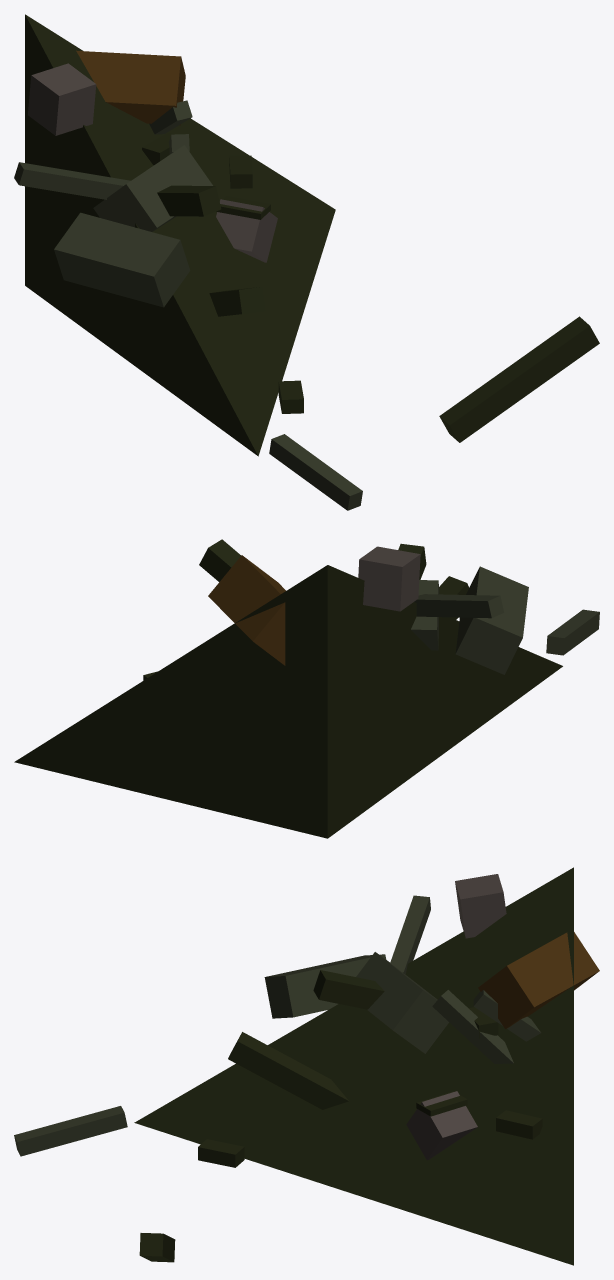
The model's file is SM_PilaZombi_RemateDer_Altura2_s0_LOD0.fbx.
3 views of the same model, one above another, from view 1: azimuth 30°, elevation 25°; view 2: azimuth 150°, elevation 25°; view 3: azimuth 270°, elevation 25° (orthographic). The views are drawn at different scales.
Visible parts, largest first — view 1: SM_pila_zombis_v1_LOD0; view 2: SM_pila_zombis_v1_LOD0; view 3: SM_pila_zombis_v1_LOD0.
Boxes of the visible parts, box(x1,y1,x2,y2) form: SM_pila_zombis_v1_LOD0: box(14, 14, 599, 510); SM_pila_zombis_v1_LOD0: box(14, 539, 599, 838); SM_pila_zombis_v1_LOD0: box(14, 867, 599, 1265).
Size of the model in its own units: 2.27 by 1.57 by 2.81.
